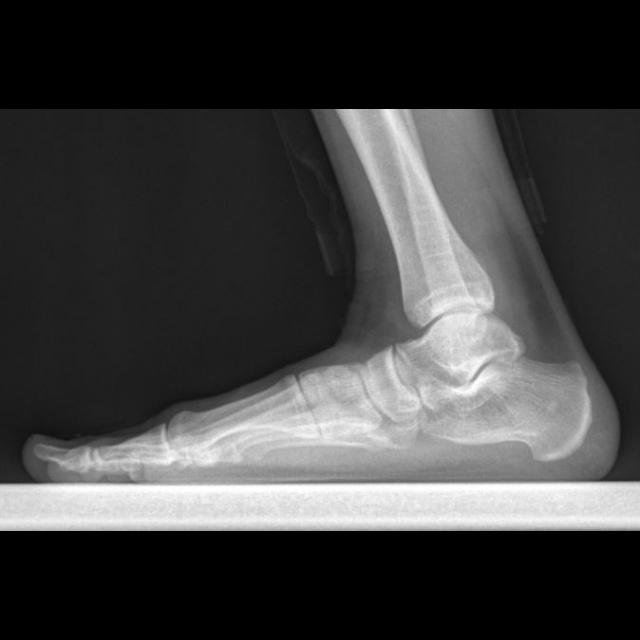a: (418, 355, 591, 461)
b: (358, 345, 421, 425)
c: (168, 372, 326, 470)
